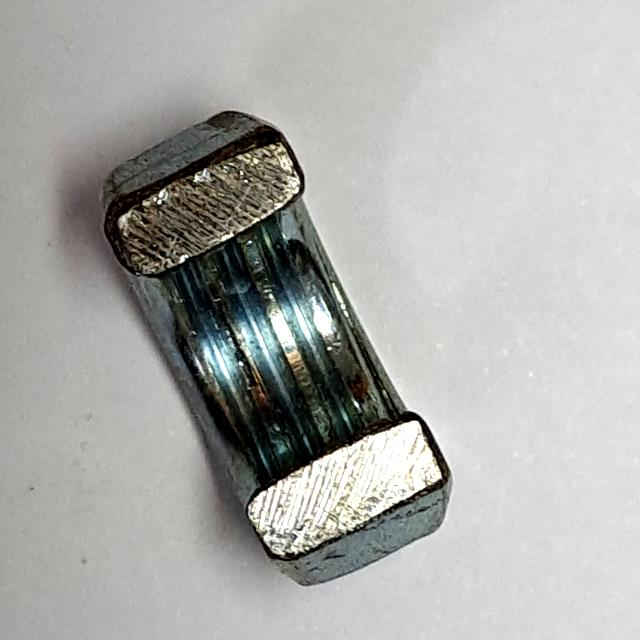Side-Fracture: (81, 87, 475, 598)
